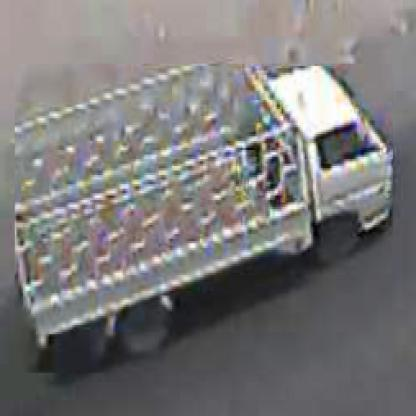truck: (14, 65, 394, 376)
